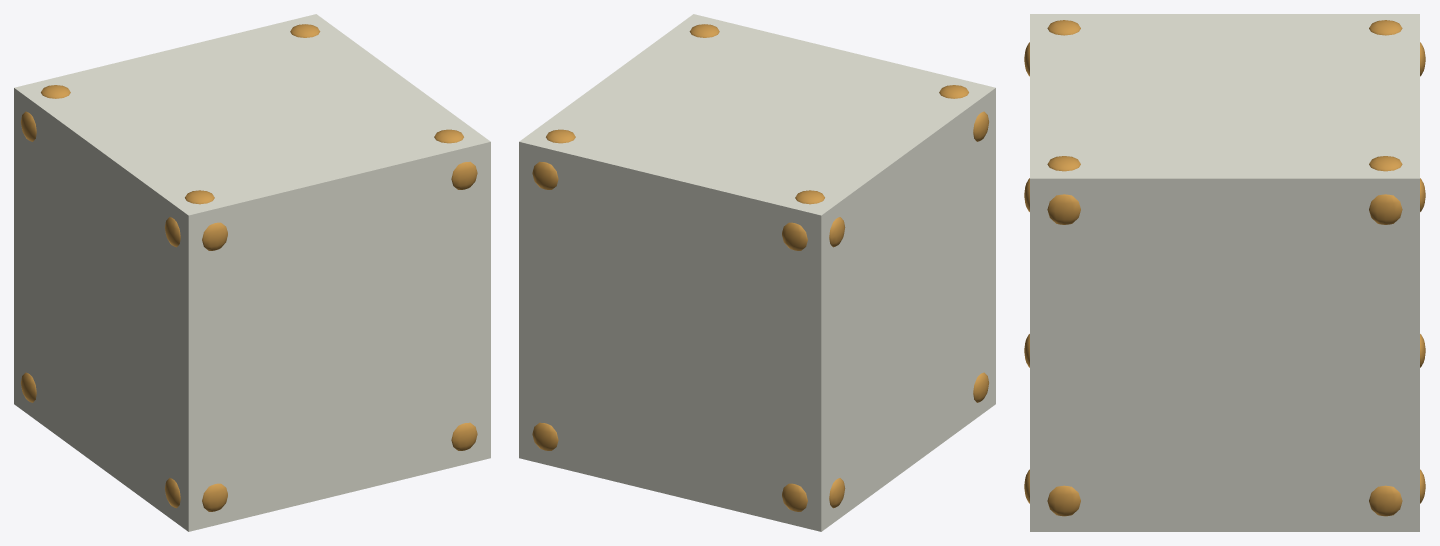
File: gilded.obj
3 renders of one model, left to right at view 1: azimuth 30°, elevation 25°; view 2: azimuth 150°, elevation 25°; view 3: azimuth 270°, elevation 25°, orthographic. The views are drawn at different scales.
Bounding box in the file's own units: 0.9996 × 0.9996 × 0.9996.
